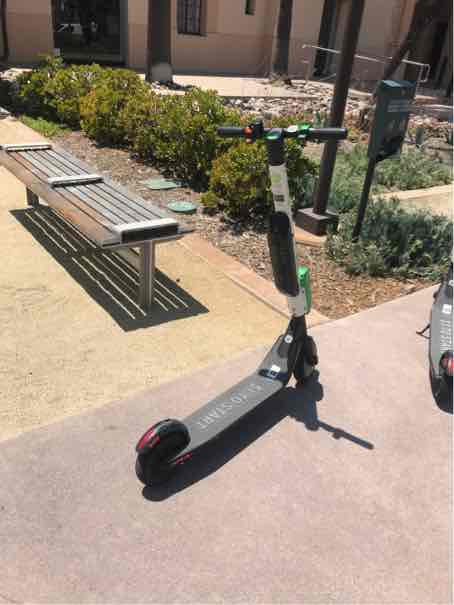scooter: (138, 115, 349, 496)
